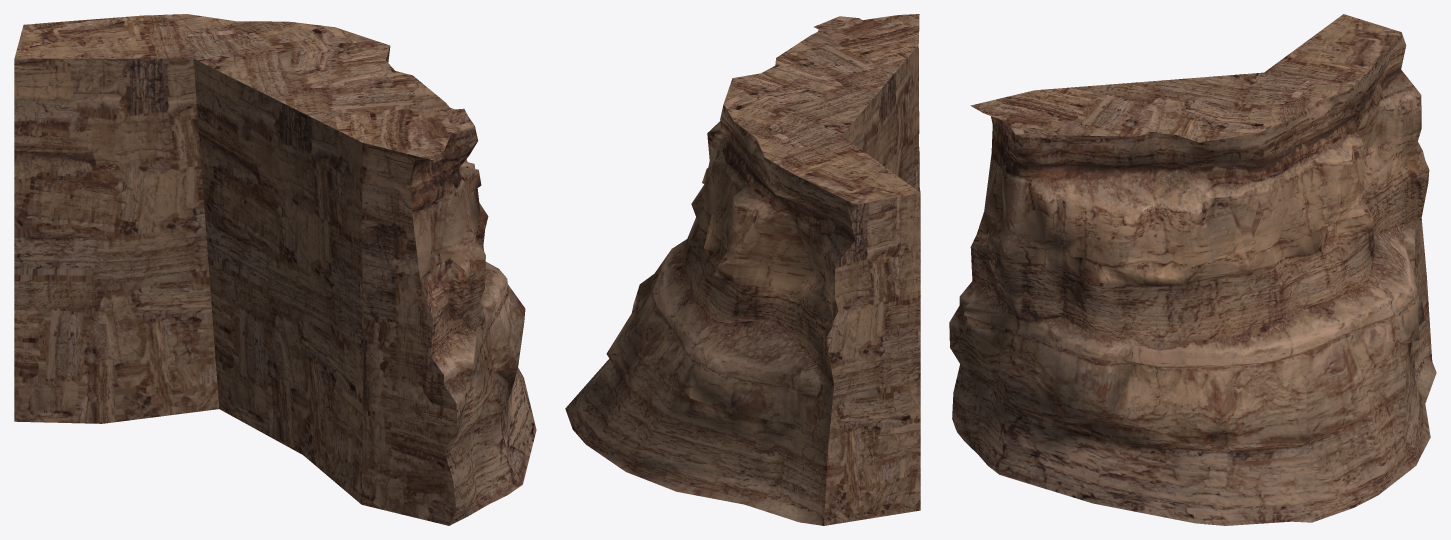
The model's file is Mesh_Cliff_Corner_04_Slope_AU.fbx.
3 views of the same model, side by side, from view 1: azimuth 30°, elevation 25°; view 2: azimuth 150°, elevation 25°; view 3: azimuth 270°, elevation 25° (orthographic). The views are drawn at different scales.
Parts seen in each view (by area): view 1: Mesh_Cliff_Corner_04_Slope_AU; view 2: Mesh_Cliff_Corner_04_Slope_AU; view 3: Mesh_Cliff_Corner_04_Slope_AU.
Part boxes in pixels (x1,y1,x2,y2): Mesh_Cliff_Corner_04_Slope_AU: (14,14,536,525); Mesh_Cliff_Corner_04_Slope_AU: (565,14,920,525); Mesh_Cliff_Corner_04_Slope_AU: (949,14,1436,525).
Bounding box in the file's own units: 5431 × 4341 × 5915.
